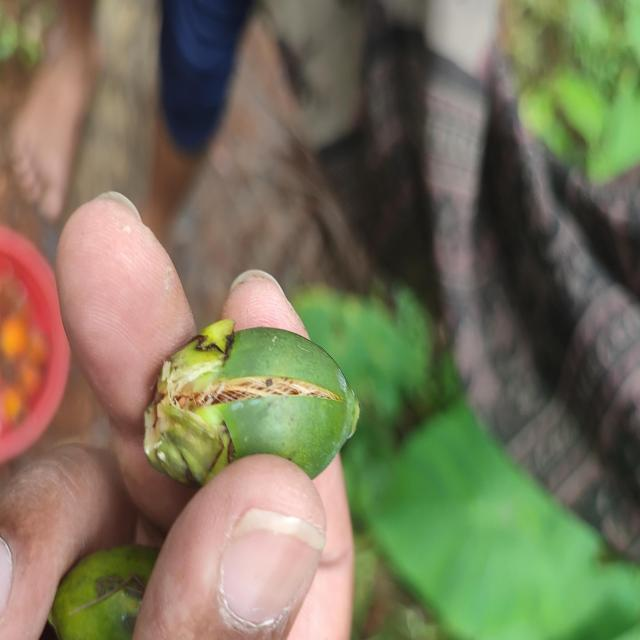damaged: (143, 315, 361, 488)
